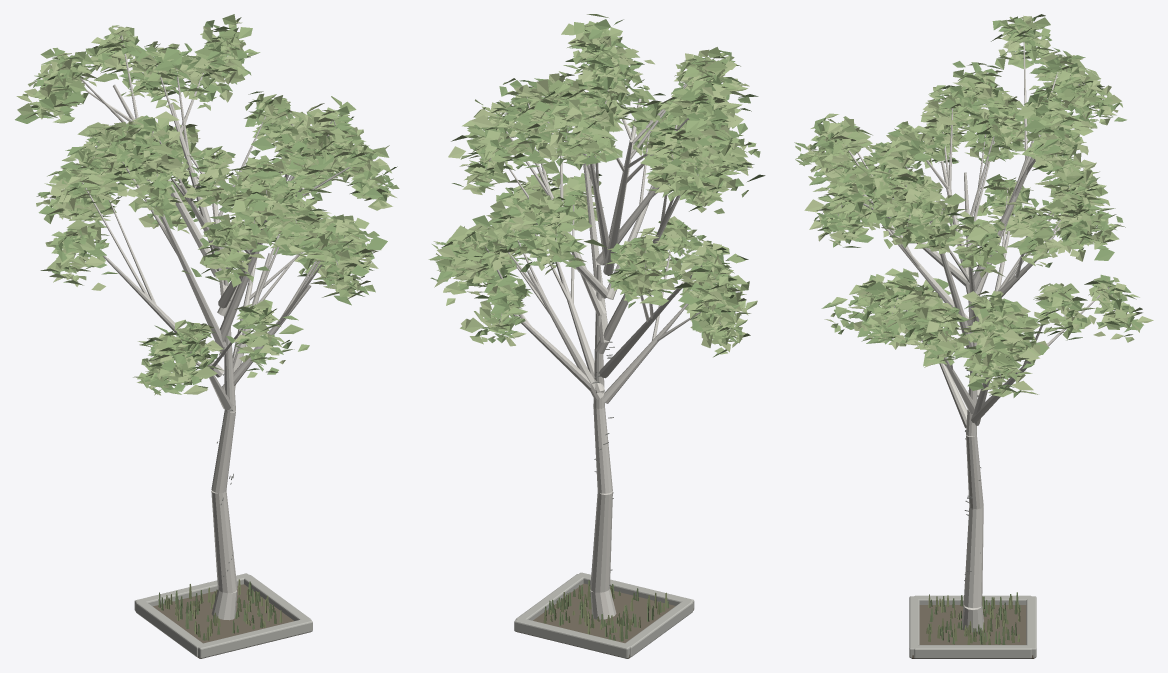
The model's file is r6b2c-brzoza-10m.glb.
3 views of the same model, side by side, from view 1: azimuth 30°, elevation 25°; view 2: azimuth 150°, elevation 25°; view 3: azimuth 270°, elevation 25° (orthographic). The views are drawn at different scales.
Parts seen in each view (by area): view 1: Brzoza miejska okolo 10 m R6C Liscie brzoza 2, Brzoza miejska okolo 10 m R6C Liscie brzoza 0, Brzoza miejska okolo 10 m R6C Liscie brzoza 3, Brzoza miejska okolo 10 m R6C Liscie brzoza 1, Brzoza miejska okolo 10 m R6C Kora brzoza, Brzoza miejska okolo 10 m R6C Ciosany kamien brzoza, Brzoza miejska okolo 10 m R6C Ciemna ziemia brzoza, Brzoza miejska okolo 10 m R6C Runo brzoza 1, Brzoza miejska okolo 10 m R6C Runo brzoza 0; view 2: Brzoza miejska okolo 10 m R6C Liscie brzoza 0, Brzoza miejska okolo 10 m R6C Liscie brzoza 1, Brzoza miejska okolo 10 m R6C Liscie brzoza 2, Brzoza miejska okolo 10 m R6C Kora brzoza, Brzoza miejska okolo 10 m R6C Liscie brzoza 3, Brzoza miejska okolo 10 m R6C Ciosany kamien brzoza, Brzoza miejska okolo 10 m R6C Ciemna ziemia brzoza, Brzoza miejska okolo 10 m R6C Runo brzoza 0, Brzoza miejska okolo 10 m R6C Runo brzoza 1; view 3: Brzoza miejska okolo 10 m R6C Liscie brzoza 0, Brzoza miejska okolo 10 m R6C Liscie brzoza 2, Brzoza miejska okolo 10 m R6C Liscie brzoza 3, Brzoza miejska okolo 10 m R6C Liscie brzoza 1, Brzoza miejska okolo 10 m R6C Kora brzoza, Brzoza miejska okolo 10 m R6C Ciosany kamien brzoza, Brzoza miejska okolo 10 m R6C Ciemna ziemia brzoza, Brzoza miejska okolo 10 m R6C Runo brzoza 1, Brzoza miejska okolo 10 m R6C Runo brzoza 0.
Part boxes in pixels (x1,y1,x2,y2): Brzoza miejska okolo 10 m R6C Liscie brzoza 2: (15, 20, 397, 394); Brzoza miejska okolo 10 m R6C Liscie brzoza 0: (31, 14, 399, 394); Brzoza miejska okolo 10 m R6C Liscie brzoza 3: (16, 22, 396, 395); Brzoza miejska okolo 10 m R6C Liscie brzoza 1: (17, 17, 391, 395); Brzoza miejska okolo 10 m R6C Kora brzoza: (70, 35, 372, 620); Brzoza miejska okolo 10 m R6C Ciosany kamien brzoza: (134, 573, 312, 658); Brzoza miejska okolo 10 m R6C Ciemna ziemia brzoza: (153, 584, 310, 658); Brzoza miejska okolo 10 m R6C Runo brzoza 1: (165, 579, 282, 640); Brzoza miejska okolo 10 m R6C Runo brzoza 0: (158, 581, 276, 640); Brzoza miejska okolo 10 m R6C Liscie brzoza 0: (428, 14, 760, 344); Brzoza miejska okolo 10 m R6C Liscie brzoza 1: (433, 23, 757, 354); Brzoza miejska okolo 10 m R6C Liscie brzoza 2: (430, 19, 765, 357); Brzoza miejska okolo 10 m R6C Kora brzoza: (469, 67, 720, 619); Brzoza miejska okolo 10 m R6C Liscie brzoza 3: (434, 32, 752, 352); Brzoza miejska okolo 10 m R6C Ciosany kamien brzoza: (514, 572, 694, 658); Brzoza miejska okolo 10 m R6C Ciemna ziemia brzoza: (517, 583, 693, 658); Brzoza miejska okolo 10 m R6C Runo brzoza 0: (544, 580, 669, 641); Brzoza miejska okolo 10 m R6C Runo brzoza 1: (543, 585, 667, 637); Brzoza miejska okolo 10 m R6C Liscie brzoza 0: (795, 14, 1143, 395); Brzoza miejska okolo 10 m R6C Liscie brzoza 2: (794, 16, 1143, 397); Brzoza miejska okolo 10 m R6C Liscie brzoza 3: (801, 15, 1153, 393); Brzoza miejska okolo 10 m R6C Liscie brzoza 1: (803, 16, 1142, 396); Brzoza miejska okolo 10 m R6C Kora brzoza: (825, 31, 1112, 632); Brzoza miejska okolo 10 m R6C Ciosany kamien brzoza: (909, 595, 1036, 658); Brzoza miejska okolo 10 m R6C Ciemna ziemia brzoza: (911, 605, 1034, 658); Brzoza miejska okolo 10 m R6C Runo brzoza 1: (926, 594, 1020, 644); Brzoza miejska okolo 10 m R6C Runo brzoza 0: (928, 592, 1020, 644).
Size of the model in its own units: 5.7 by 9.76 by 5.58.
